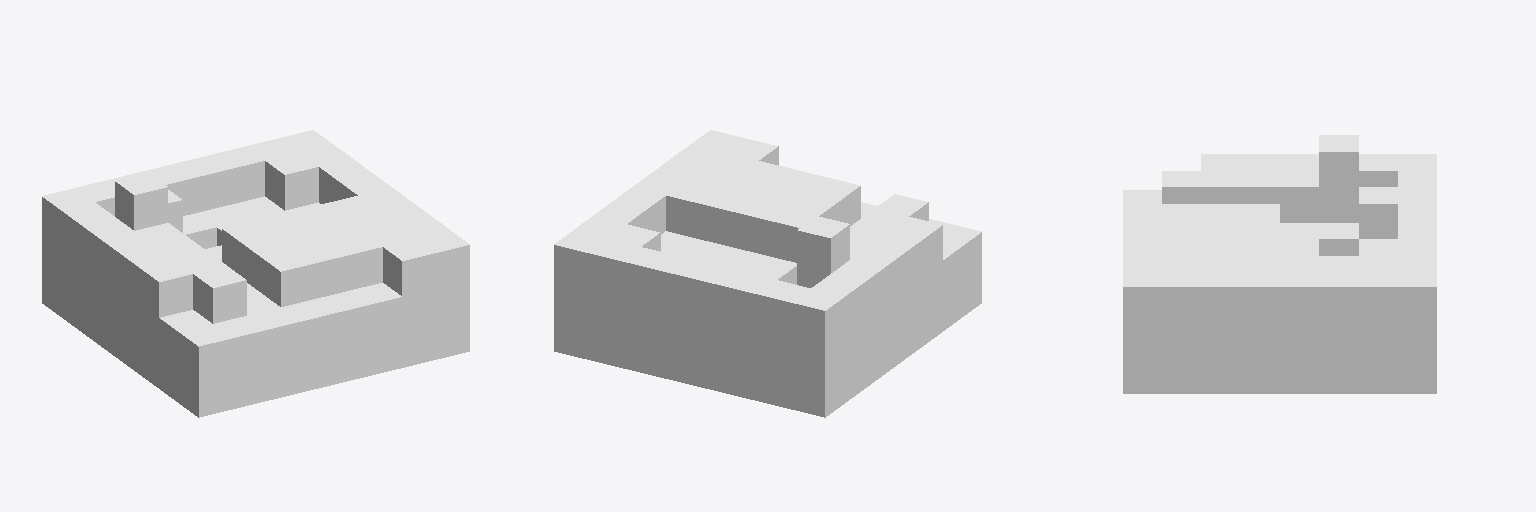
Rendered from Lava13.obj.
3 views of the same model, side by side, from view 1: azimuth 30°, elevation 25°; view 2: azimuth 150°, elevation 25°; view 3: azimuth 270°, elevation 25° (orthographic).
Visible parts, largest first — view 1: object 1; view 2: object 1; view 3: object 1.
Part boxes in pixels (x1,y1,x2,y2): object 1: (42, 130, 469, 417); object 1: (554, 130, 981, 417); object 1: (1123, 135, 1436, 393).
Size of the model in its own units: 0.8 by 0.4 by 0.8.